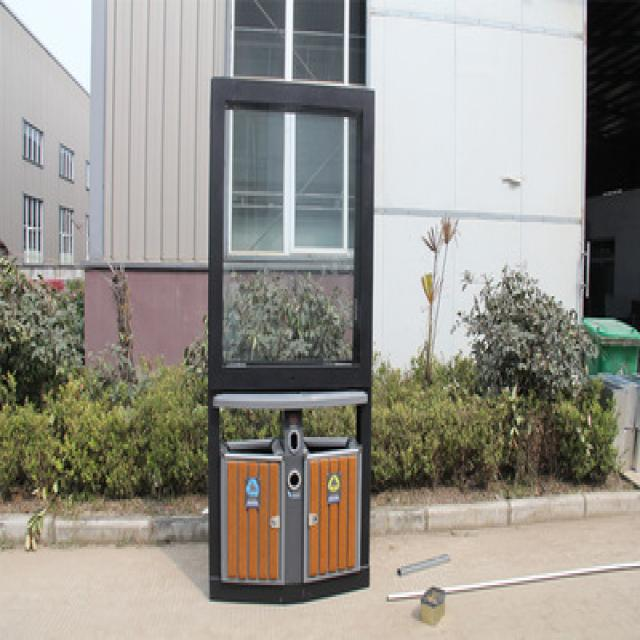garbage_bin: (208, 365, 370, 602)
